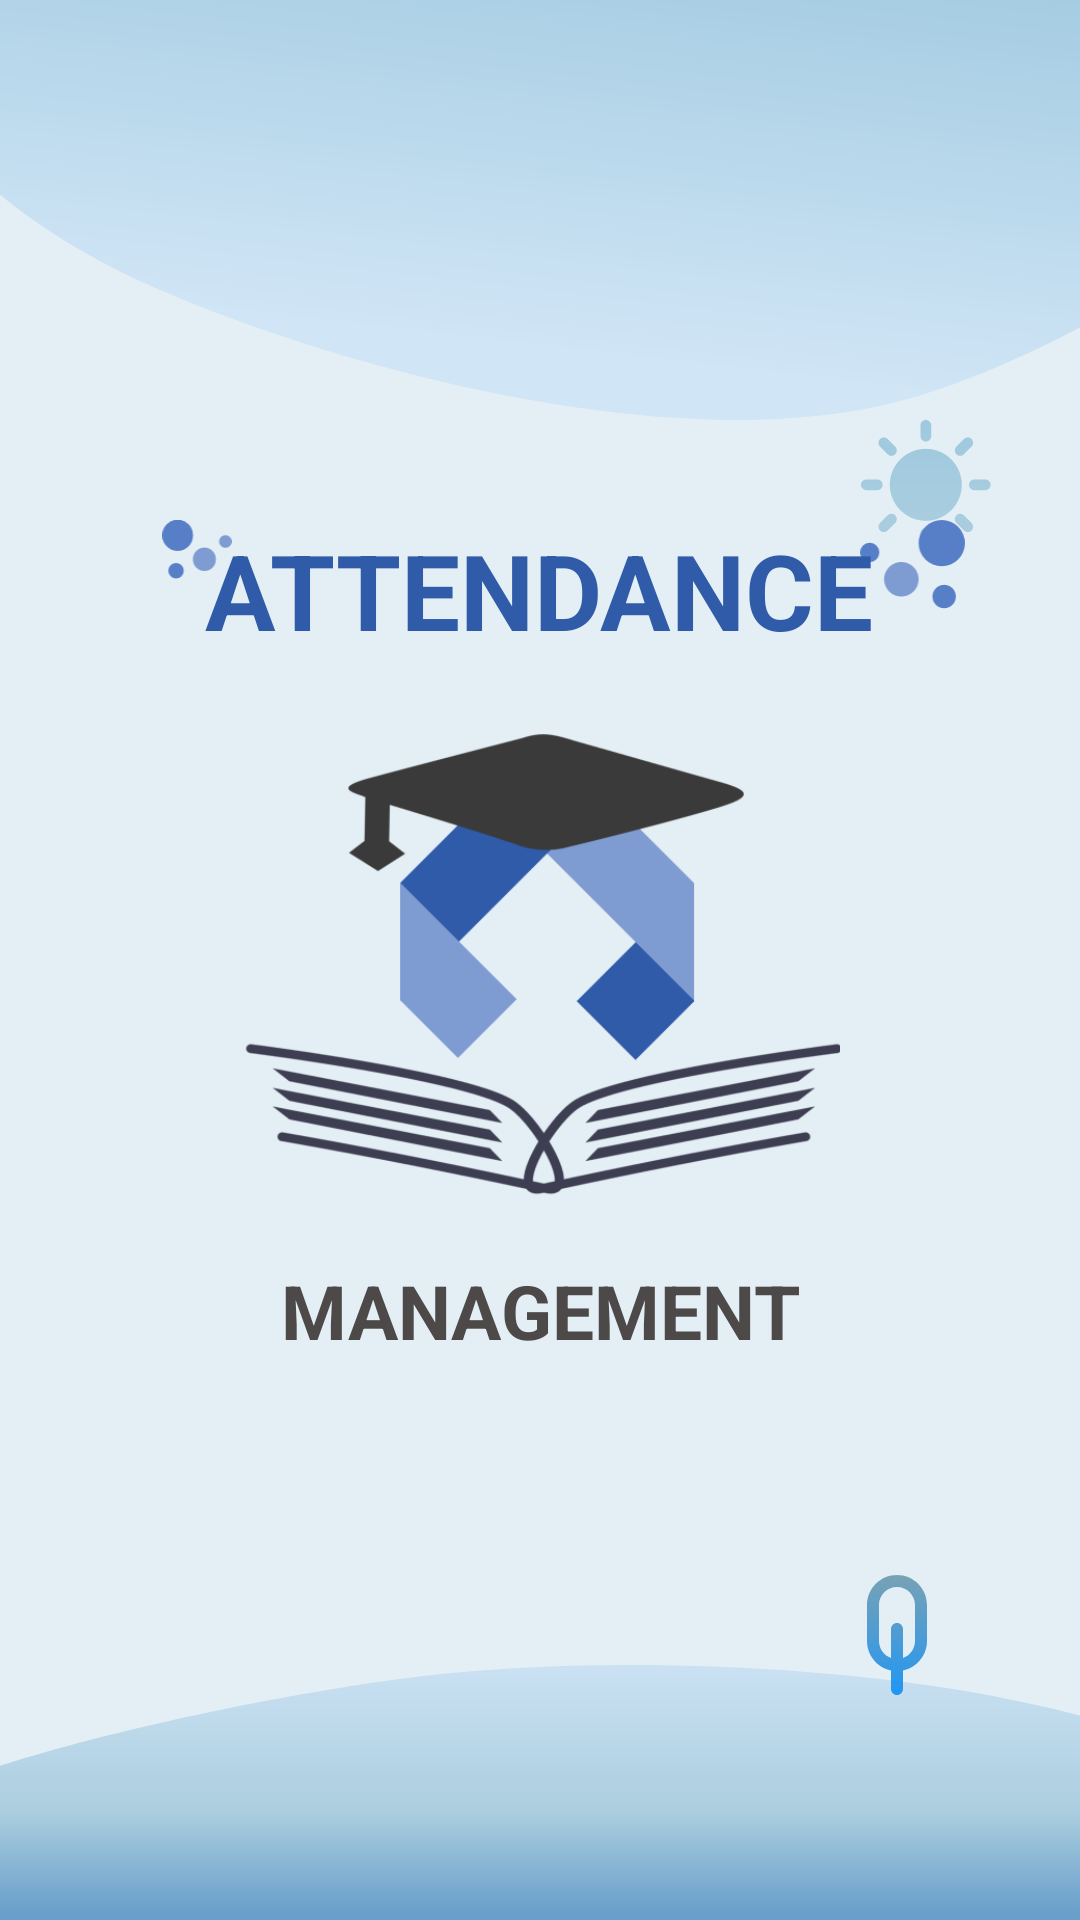

Named icons in this screenshot (1080 x 1920) and their centers, point (x, y):
dot: point (197, 549), point (909, 564)
